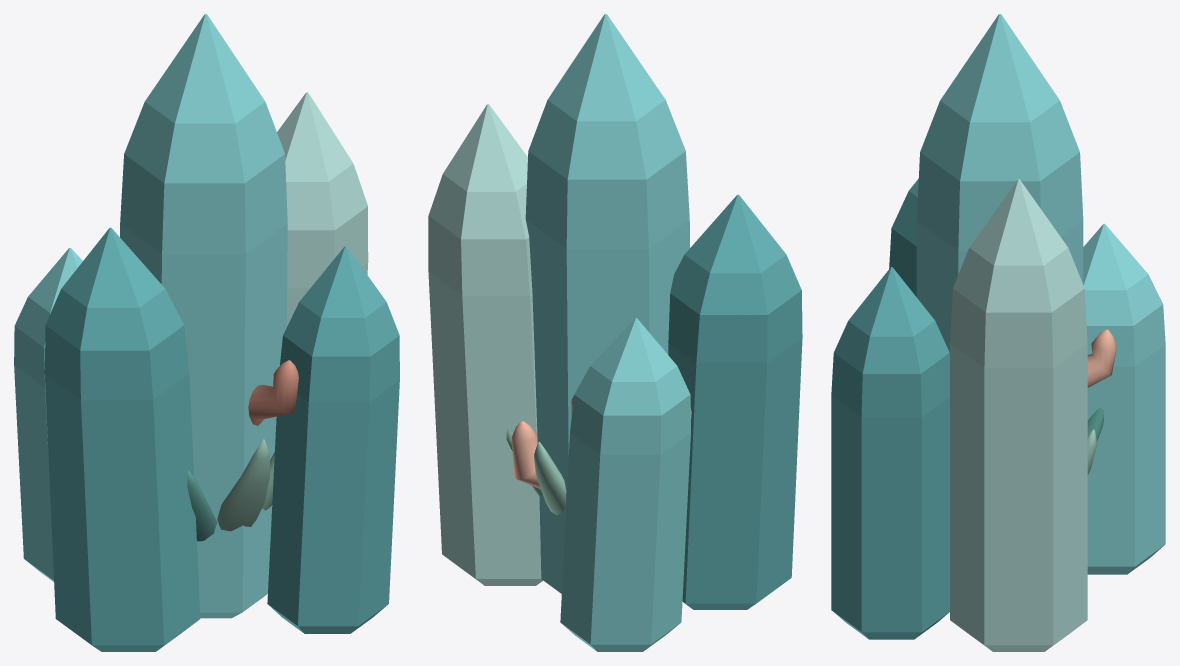
Rendered from world10-flora-v1.glb.
The picture shows the model from 3 angles, left to right: view 1: azimuth 30°, elevation 25°; view 2: azimuth 150°, elevation 25°; view 3: azimuth 270°, elevation 25°; orthographic projection. The views are drawn at different scales.
Visible parts, largest first — view 1: glass-cluster-glass-deep, glass-cluster-glass-aqua, glass-cluster-glass-pale, succulent-leaf-sage, coral-rounded-coral-red, succulent-leaf-deep; view 2: glass-cluster-glass-aqua, glass-cluster-glass-deep, glass-cluster-glass-pale, succulent-leaf-sage, coral-rounded-coral-salmon; view 3: glass-cluster-glass-pale, glass-cluster-glass-aqua, glass-cluster-glass-deep, coral-rounded-coral-salmon.
Boxes of the visible parts, left/top/right/bottom form: glass-cluster-glass-deep: left=44, top=227, right=399, bottom=651; glass-cluster-glass-aqua: left=14, top=14, right=287, bottom=618; glass-cluster-glass-pale: left=277, top=92, right=368, bottom=326; succulent-leaf-sage: left=217, top=439, right=274, bottom=531; coral-rounded-coral-red: left=248, top=360, right=298, bottom=425; succulent-leaf-deep: left=187, top=471, right=217, bottom=541; glass-cluster-glass-aqua: left=525, top=14, right=690, bottom=651; glass-cluster-glass-deep: left=668, top=194, right=802, bottom=609; glass-cluster-glass-pale: left=428, top=104, right=542, bottom=585; succulent-leaf-sage: left=506, top=428, right=566, bottom=515; coral-rounded-coral-salmon: left=511, top=395, right=691, bottom=489; glass-cluster-glass-pale: left=950, top=179, right=1087, bottom=651; glass-cluster-glass-aqua: left=916, top=14, right=1165, bottom=574; glass-cluster-glass-deep: left=831, top=179, right=949, bottom=639; coral-rounded-coral-salmon: left=1087, top=329, right=1116, bottom=387.
Size of the model in its own units: 3.5 by 6.1 by 3.21.
